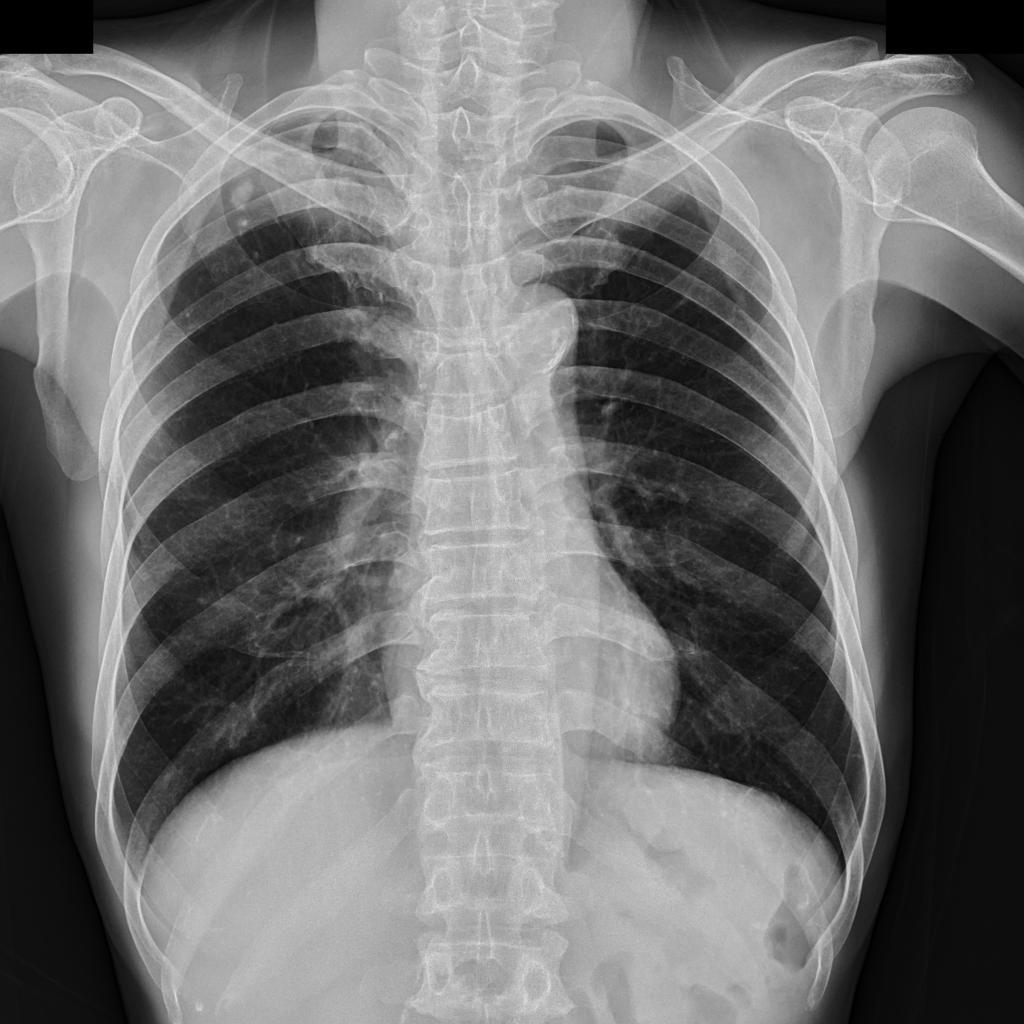Nodule: (232, 180, 260, 229)
